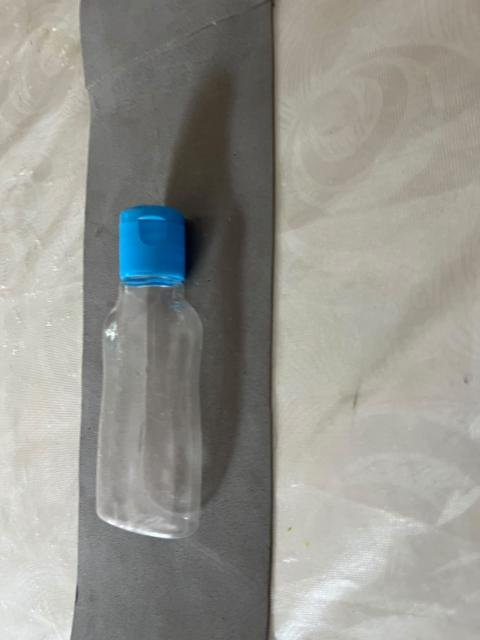PET: (82, 180, 242, 567)
